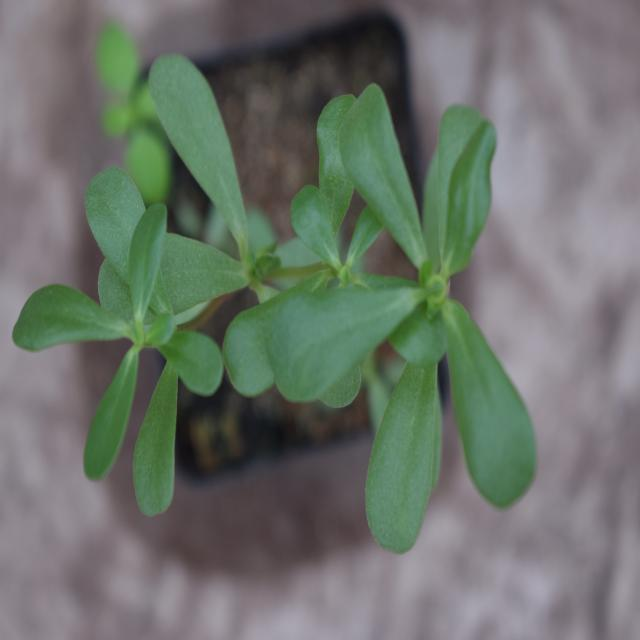purslane: (29, 62, 571, 510)
